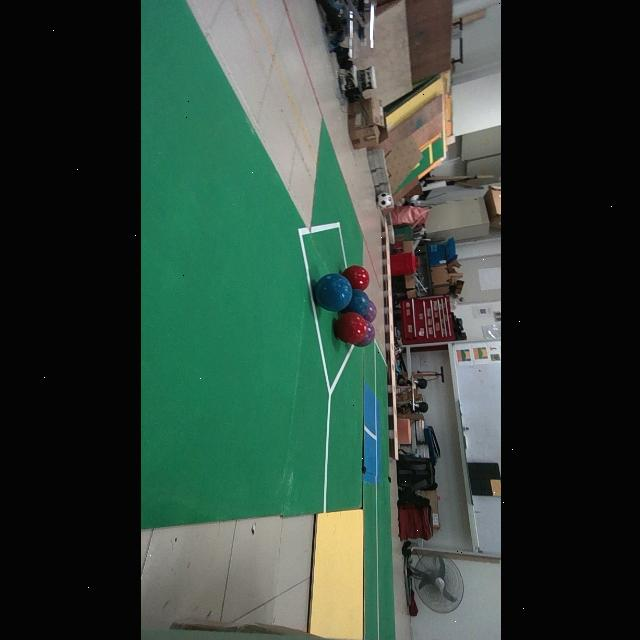B: (313, 273, 352, 311), (341, 289, 369, 315)
P: (354, 322, 374, 348), (362, 301, 375, 323)
R: (333, 312, 366, 344), (341, 265, 369, 290)
